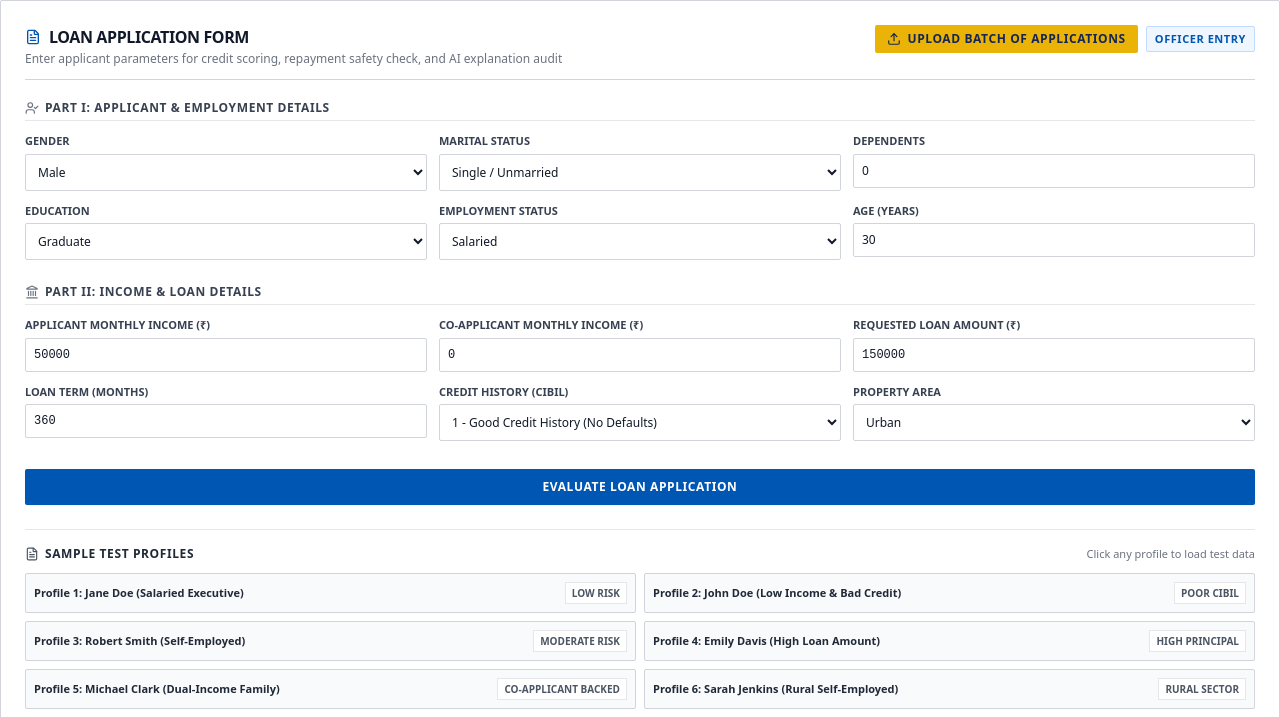
Test: ApplicantForm Component (Modular Test) › clicking a preset profile populates form data
The image size is (1280, 717).
Click the text "Profile 1: Jane Doe (Salaried Executive)": {"x": 139, "y": 592} [34,584,244,600]
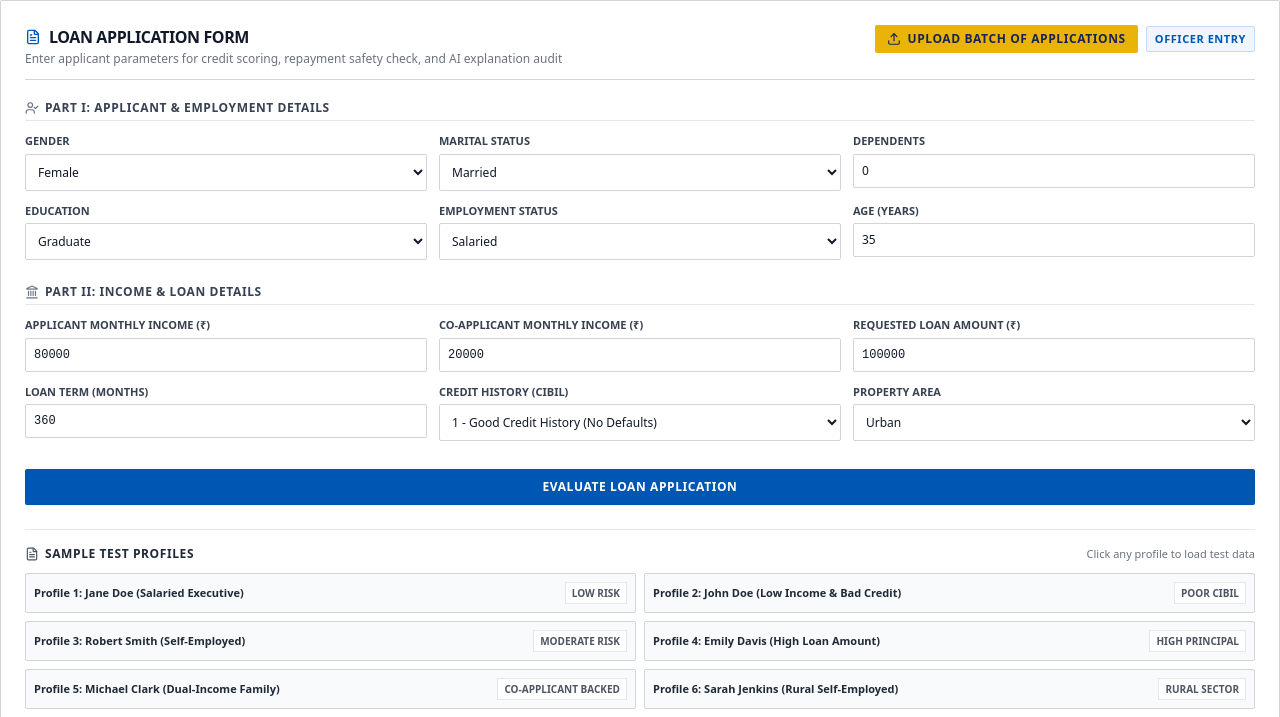
Expected: the 3rd number field showing "80000" is shown, [25,338,427,372]
